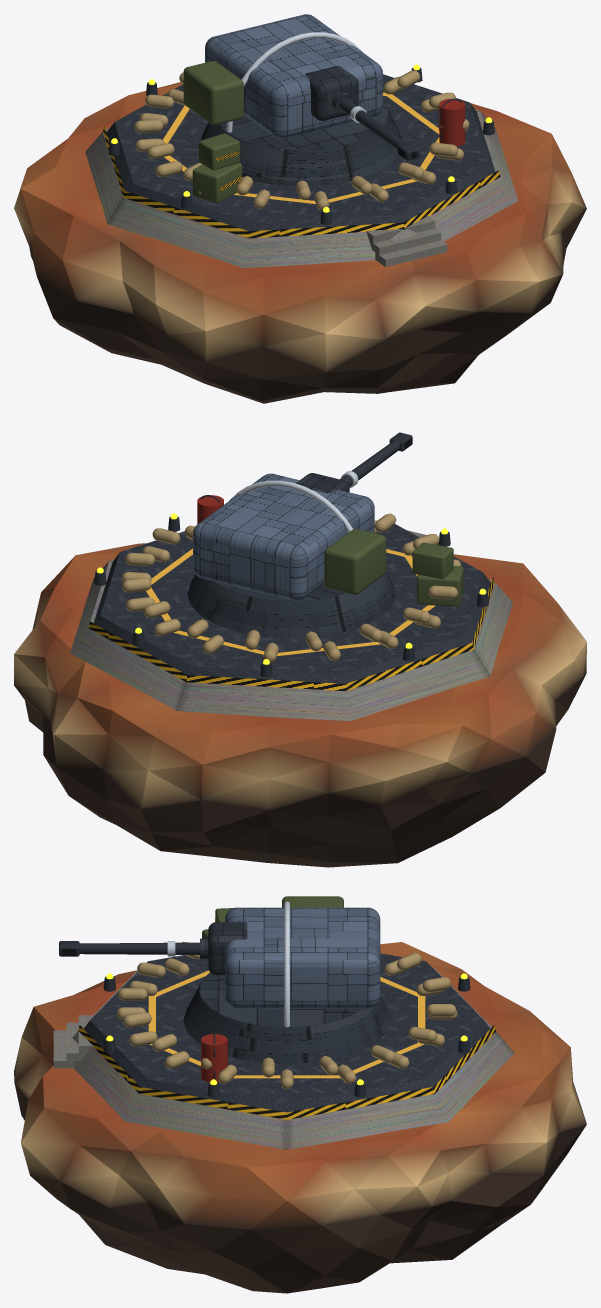
The model's file is autocannon-L1.glb.
3 renders of one model, top to bottom at view 1: azimuth 30°, elevation 25°; view 2: azimuth 150°, elevation 25°; view 3: azimuth 270°, elevation 25°, orthographic. The views are drawn at different scales.
Parts seen in each view (by area): view 1: object 1, object 4, anim:yaw, object 2, object 64, object 3, anim:pitch, object 57, anim:rc, object 5, object 59, object 61 (+4 smaller); view 2: object 1, object 4, anim:yaw, object 2, object 64, object 3, object 5, object 59, object 57, anim:rc, object 65, anim:pitch; view 3: object 1, object 4, anim:yaw, object 2, object 64, object 3, anim:rc, object 5, anim:pitch, object 61, object 65, object 22.
Boxes of the visible parts, x1,y1,x2,y2 form: object 1: [14, 82, 586, 403]; object 4: [106, 74, 495, 231]; anim:yaw: [183, 14, 382, 138]; object 2: [85, 109, 518, 267]; object 64: [200, 102, 402, 185]; object 3: [103, 126, 500, 238]; anim:pitch: [305, 66, 358, 120]; object 57: [192, 163, 242, 203]; anim:rc: [332, 92, 419, 160]; object 5: [163, 92, 439, 203]; object 59: [198, 133, 239, 170]; object 61: [439, 99, 465, 146]; object 1: [14, 543, 586, 867]; object 4: [93, 520, 490, 683]; anim:yaw: [193, 473, 386, 600]; object 2: [70, 559, 512, 720]; object 64: [187, 571, 395, 637]; object 3: [88, 576, 494, 691]; object 5: [146, 548, 435, 655]; object 59: [412, 542, 453, 579]; object 57: [417, 566, 463, 606]; anim:rc: [340, 432, 412, 488]; object 65: [229, 480, 352, 532]; anim:pitch: [296, 473, 349, 493]; object 1: [14, 942, 586, 1293]; object 4: [84, 953, 489, 1112]; anim:yaw: [225, 896, 380, 1008]; object 2: [72, 968, 514, 1149]; object 64: [183, 972, 390, 1063]; object 3: [78, 1025, 495, 1119]; anim:rc: [59, 938, 208, 958]; object 5: [148, 970, 425, 1078]; anim:pitch: [208, 922, 247, 975]; object 61: [201, 1034, 227, 1082]; object 65: [284, 901, 289, 1027]; object 22: [53, 1030, 74, 1068].
Size of the model in its own units: 5.6 by 3.36 by 5.53.
Materials: 15 (6 with a texture image).
